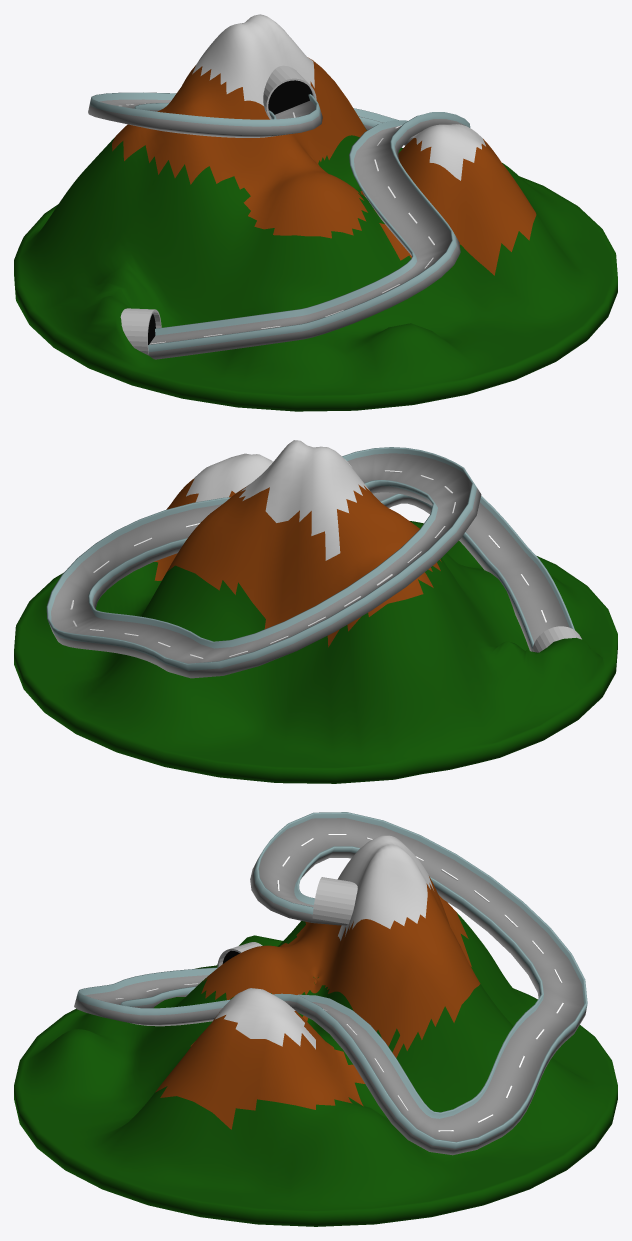
The model's file is car-table.fbx.
3 views of the same model, one above another, from view 1: azimuth 30°, elevation 25°; view 2: azimuth 150°, elevation 25°; view 3: azimuth 270°, elevation 25° (orthographic).
Visible parts, largest first — view 1: Hill, roadPath.001, tunnelUp, tunnelDown; view 2: Hill, roadPath.001, tunnelDown; view 3: Hill, roadPath.001, tunnelUp.
Part boxes in pixels (x1,y1,x2,y2): Hill: (14, 14, 617, 411); roadPath.001: (88, 92, 470, 359); tunnelUp: (263, 65, 316, 119); tunnelDown: (120, 308, 161, 355); Hill: (14, 440, 617, 783); roadPath.001: (46, 447, 574, 678); tunnelDown: (532, 626, 581, 652); Hill: (14, 835, 617, 1226); roadPath.001: (74, 812, 587, 1155); tunnelUp: (312, 877, 357, 923).
Size of the model in its own units: 1980 by 886 by 1980.
